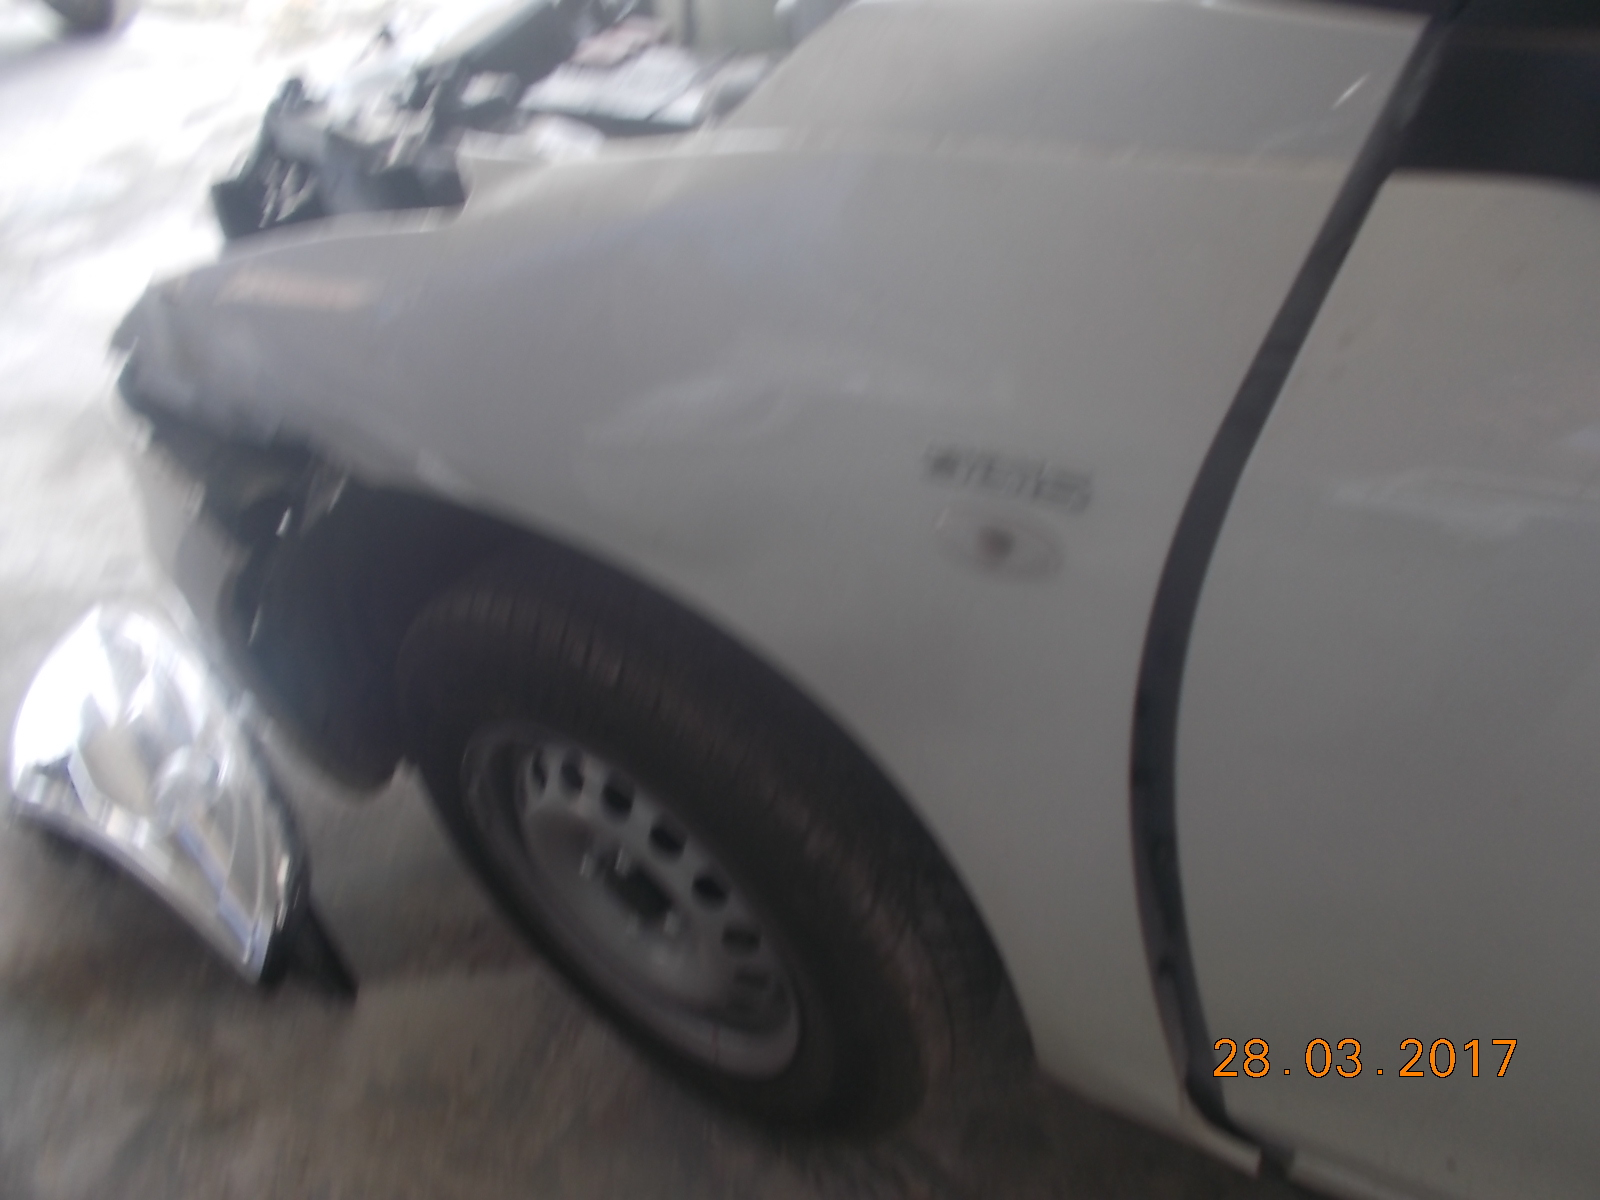Dislocation: (1121, 456, 1233, 1088), (1221, 175, 1401, 410)
